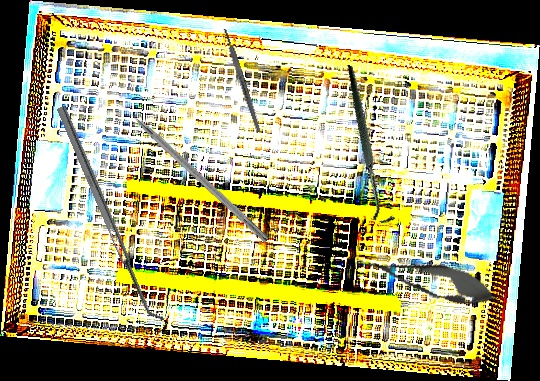Hook Surgical: (111, 94, 271, 244), (306, 64, 435, 227)
Micro Scissor: (351, 243, 502, 315)
Scalpel Handle: (222, 27, 262, 134)
Spatula Surgical: (56, 101, 166, 327)
